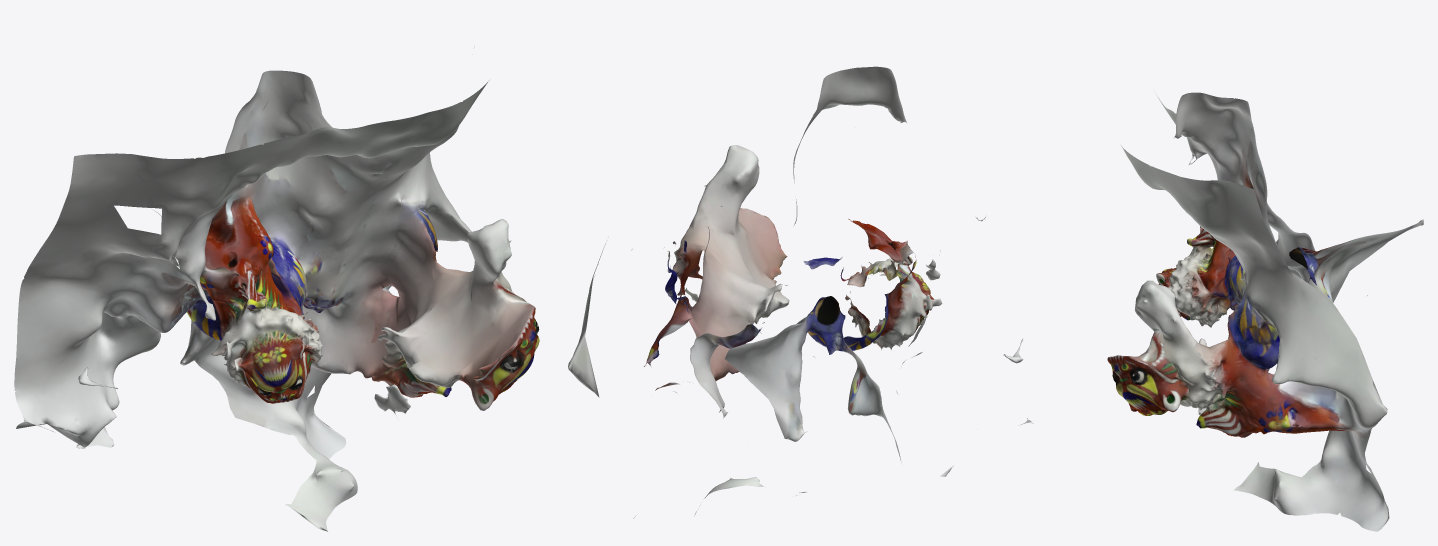
3 views of the same model, side by side, from view 1: azimuth 30°, elevation 25°; view 2: azimuth 150°, elevation 25°; view 3: azimuth 270°, elevation 25° (orthographic). The views are drawn at different scales.
Size of the model in its own units: 1.01 by 0.9677 by 0.7549.
Materials: 1 (1 with a texture image).
